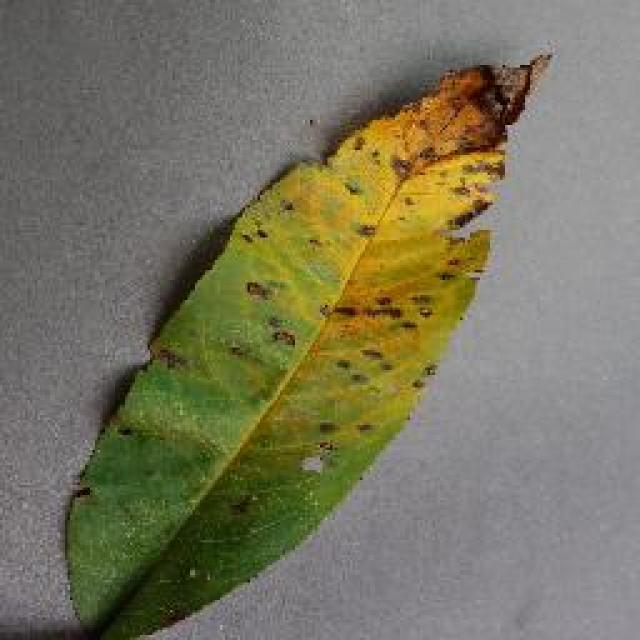Peach_Bacterial_Spot: (243, 103, 565, 422)
